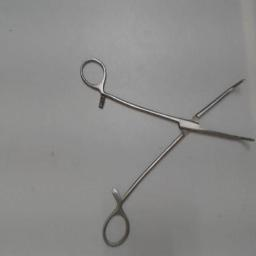Lahey Forceps: (76, 52, 256, 250)
